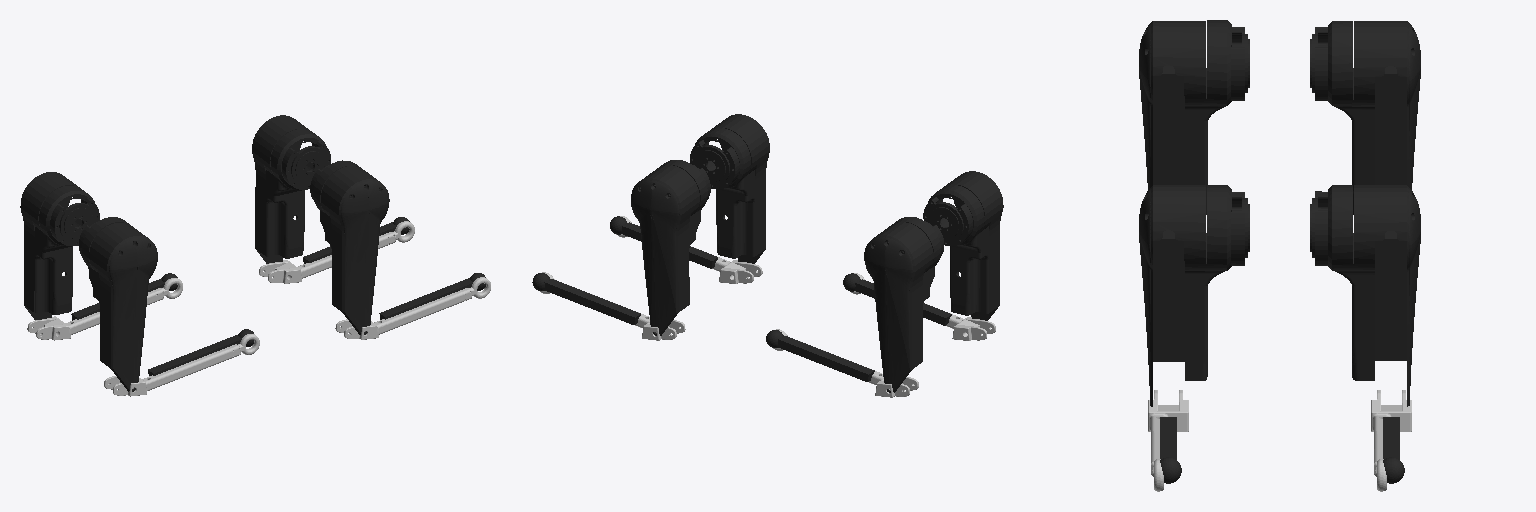
The robot description file, URDF, robot "robot":
<?xml version="1.0" ?>
<robot name="robot">
  <material name="black">
    <color rgba="0.0 0.0 0.0 1.0"/>
  </material>
  <material name="blue">
    <color rgba="0.0 0.0 0.8 1.0"/>
  </material>
  <material name="green">
    <color rgba="0.0 0.8 0.0 1.0"/>
  </material>
  <material name="grey">
    <color rgba="0.2 0.2 0.2 1.0"/>
  </material>
  <material name="silver">
    <color rgba="0.9137254901960784 0.9137254901960784 0.8470588235294118 1.0"/>
  </material>
  <material name="orange">
    <color rgba="1.0 0.4235294117647059 0.0392156862745098 1.0"/>
  </material>
  <material name="brown">
    <color rgba="0.8705882352941177 0.8117647058823529 0.7647058823529411 1.0"/>
  </material>
  <material name="red">
    <color rgba="0.8 0.0 0.0 1.0"/>
  </material>
  <material name="white">
    <color rgba="1.0 1.0 1.0 1.0"/>
  </material>
  <link name="base">
    <visual>
      <origin rpy="0 0 0" xyz="0 0 0"/>
      <geometry>
        <box size="0.001 0.001 0.001"/>
      </geometry>
    </visual>
  </link>
  <joint name="floating_base" type="fixed">
    <origin rpy="0 0 0" xyz="0 0 0"/>
    <parent link="base"/>
    <child link="trunk"/>
  </joint>
  <link name="trunk">
    <visual>
      <origin rpy="0 0 0" xyz="0 0 0"/>
      <geometry>
        <mesh filename="../meshes/trunk.dae" scale="1 1 1"/>
      </geometry>
      <material name="grey"/>
    </visual>
    <collision>
      <origin rpy="0 0 0" xyz="0 0 0"/>
      <geometry>
        <box size="0.647 0.15 0.112"/>
      </geometry>
    </collision>
    <inertial>
      <origin rpy="0 0 0" xyz="0.008465 0.004045 -0.000763"/>
      <mass value="11.041"/>
      <inertia ixx="0.050874" ixy="-0.000451628" ixz="0.000487603" iyy="0.64036" iyz="4.8356e-05" izz="0.65655"/>
    </inertial>
  </link>
  <joint name="FR_hip_joint" type="revolute">
    <origin rpy="0 0 0" xyz="0.2407 -0.051 0"/>
    <parent link="trunk"/>
    <child link="FR_hip"/>
    <axis xyz="1 0 0"/>
    <dynamics damping="0.05" friction="0.01"/>
    <limit effort="35.278" lower="-1.2217304763960306" upper="1.2217304763960306" velocity="20"/>
  </joint>
  <link name="FR_hip">
    <visual>
      <origin rpy="3.141592653589793 0 0" xyz="0 0 0"/>
      <geometry>
        <mesh filename="../meshes/hip.dae" scale="1 1 1"/>
      </geometry>
      <material name="grey"/>
    </visual>
    <collision>
      <origin rpy="1.5707963267948966 0 0" xyz="0 0 0"/>
      <geometry>
        <cylinder length="0.0418" radius="0.046"/>
      </geometry>
    </collision>
    <inertial>
      <origin rpy="0 0 0" xyz="-0.022191 -0.015144 -1.5e-05"/>
      <mass value="1.993"/>
      <inertia ixx="0.002903894" ixy="7.185e-05" ixz="-1.262e-06" iyy="0.004907517" iyz="1.75e-06" izz="0.005586944"/>
    </inertial>
  </link>
  <joint name="FR_thigh_joint" type="revolute">
    <origin rpy="0 0 0" xyz="0 -0.0868 0"/>
    <parent link="FR_hip"/>
    <child link="FR_thigh"/>
    <axis xyz="0 1 0"/>
    <dynamics damping="0.05" friction="0.01"/>
    <limit effort="35.278" lower="-1.0471975511965976" upper="4.1887902047863905" velocity="20"/>
  </joint>
  <link name="FR_thigh">
    <visual>
      <origin rpy="0 0 0" xyz="0 0 0"/>
      <geometry>
        <mesh filename="../meshes/thigh.dae" scale="1 1 1"/>
      </geometry>
      <material name="grey"/>
    </visual>
    <collision>
      <origin rpy="0 1.6707963267948966 0" xyz="-0.015 0 -0.125"/>
      <geometry>
        <box size="0.25 0.0374 0.043"/>
      </geometry>
    </collision>
    <collision>
      <origin rpy="1.5707963267948966 0 0" xyz="0 -0.0 0"/>
      <geometry>
        <cylinder length="0.03" radius="0.044"/>
      </geometry>
    </collision>
    <inertial>
      <origin rpy="0 0 0" xyz="-0.005607 0.003877 -0.048199"/>
      <mass value="0.639"/>
      <inertia ixx="0.005666803" ixy="-3.597e-06" ixz="0.000491446" iyy="0.005847229" iyz="-1.0086e-05" izz="0.000369811"/>
    </inertial>
  </link>
  <joint name="FR_calf_joint" type="revolute">
    <origin rpy="0 0 0" xyz="0 0 -0.25"/>
    <parent link="FR_thigh"/>
    <child link="FR_calf"/>
    <axis xyz="0 1 0"/>
    <dynamics damping="0.05" friction="0.01"/>
    <limit effort="44.4" lower="-2.775073510670984" upper="-0.6457718232379019" velocity="15.89"/>
  </joint>
  <link name="FR_calf">
    <visual>
      <origin rpy="0 0 0" xyz="0 0 0"/>
      <geometry>
        <mesh filename="../meshes/calf.dae" scale="1 1 1"/>
      </geometry>
    </visual>
    <collision>
      <origin rpy="0 1.5707963267948966 0" xyz="0.008 0 -0.125"/>
      <geometry>
        <box size="0.25 0.04 0.03"/>
      </geometry>
    </collision>
    <collision>
      <origin rpy="0 0 0" xyz="0 0 -0.25"/>
      <geometry>
        <sphere radius="0.02"/>
      </geometry>
    </collision>
    <inertial>
      <origin rpy="0 0 0" xyz="0.002781 6.3e-05 -0.142518"/>
      <mass value="0.207"/>
      <inertia ixx="0.006341369" ixy="-3e-09" ixz="-8.7951e-05" iyy="0.006355157" iyz="-1.336e-06" izz="3.9188e-05"/>
    </inertial>
  </link>
  <joint name="FR_foot_pris" type="prismatic">
    <origin rpy="0 0 0" xyz="0 0 -0.25"/>
    <parent link="FR_calf"/>
    <child link="FR_foot"/>
    <axis xyz="0 0 -1"/>
    <dynamics damping="0" friction="0"/>
    <limit effort="50" velocity="40" lower="0.0" upper="0.02"/>
  </joint>
  <link name="FR_foot">
    <visual>
      <origin rpy="0 1.57079632679 0" xyz="0 0 0.1"/>
      <geometry>
        <box size="0.2 0.0208 0.016"/>
      </geometry>
      <material name="grey"/>
    </visual>
    <visual>
      <origin rpy="0 0 0" xyz="0 0 0"/>
      <geometry>
        <sphere radius="0.0165"/>
      </geometry>
      <material name="grey"/>
    </visual>
    <collision>
      <origin rpy="0 0 0" xyz="0 0 0"/>
      <geometry>
        <sphere radius="0.0165"/>
      </geometry>
    </collision>
    <inertial>
      <mass value="0.06"/>
      <inertia ixx="1.6854e-05" ixy="0.0" ixz="0.0" iyy="1.6854e-05" iyz="0.0" izz="1.6854e-05"/>
    </inertial>
  </link>
  <joint name="FL_hip_joint" type="revolute">
    <origin rpy="0 0 0" xyz="0.2407 0.051 0"/>
    <parent link="trunk"/>
    <child link="FL_hip"/>
    <axis xyz="1 0 0"/>
    <dynamics damping="0.05" friction="0.01"/>
    <limit effort="35.278" lower="-1.2217304763960306" upper="1.2217304763960306" velocity="20"/>
  </joint>
  <link name="FL_hip">
    <visual>
      <origin rpy="0 0 0" xyz="0 0 0"/>
      <geometry>
        <mesh filename="../meshes/hip.dae" scale="1 1 1"/>
      </geometry>
      <material name="grey"/>
    </visual>
    <collision>
      <origin rpy="1.5707963267948966 0 0" xyz="0 0 0"/>
      <geometry>
        <cylinder length="0.0418" radius="0.046"/>
      </geometry>
    </collision>
    <inertial>
      <origin rpy="0 0 0" xyz="-0.022191 0.015144 -1.5e-05"/>
      <mass value="1.993"/>
      <inertia ixx="0.002903894" ixy="-7.185e-05" ixz="-1.262e-06" iyy="0.004907517" iyz="-1.75e-06" izz="0.005586944"/>
    </inertial>
  </link>
  <joint name="FL_thigh_joint" type="revolute">
    <origin rpy="0 0 0" xyz="0 0.0868 0"/>
    <parent link="FL_hip"/>
    <child link="FL_thigh"/>
    <axis xyz="0 1 0"/>
    <dynamics damping="0.05" friction="0.01"/>
    <limit effort="35.278" lower="-1.0471975511965976" upper="4.1887902047863905" velocity="20"/>
  </joint>
  <link name="FL_thigh">
    <visual>
      <origin rpy="0 0 0" xyz="0 0 0"/>
      <geometry>
        <mesh filename="../meshes/thigh_mirror.dae" scale="1 1 1"/>
      </geometry>
      <material name="grey"/>
    </visual>
    <collision>
      <origin rpy="0 1.6707963267948966 0" xyz="-0.015 0 -0.125"/>
      <geometry>
        <box size="0.25 0.0374 0.043"/>
      </geometry>
    </collision>
    <collision>
      <origin rpy="1.5707963267948966 0 0" xyz="0 0.0 0"/>
      <geometry>
        <cylinder length="0.03" radius="0.044"/>
      </geometry>
    </collision>
    <inertial>
      <origin rpy="0 0 0" xyz="-0.005607 -0.003877 -0.048199"/>
      <mass value="0.639"/>
      <inertia ixx="0.005666803" ixy="3.597e-06" ixz="0.000491446" iyy="0.005847229" iyz="1.0086e-05" izz="0.000369811"/>
    </inertial>
  </link>
  <joint name="FL_calf_joint" type="revolute">
    <origin rpy="0 0 0" xyz="0 0 -0.25"/>
    <parent link="FL_thigh"/>
    <child link="FL_calf"/>
    <axis xyz="0 1 0"/>
    <dynamics damping="0.05" friction="0.01"/>
    <limit effort="44.4" lower="-2.775073510670984" upper="-0.6457718232379019" velocity="15.89"/>
  </joint>
  <link name="FL_calf">
    <visual>
      <origin rpy="0 0 0" xyz="0 0 0"/>
      <geometry>
        <mesh filename="../meshes/calf.dae" scale="1 1 1"/>
      </geometry>
    </visual>
    <collision>
      <origin rpy="0 1.5707963267948966 0" xyz="0.008 0 -0.125"/>
      <geometry>
        <box size="0.25 0.04 0.03"/>
      </geometry>
    </collision>
    <collision>
      <origin rpy="0 0 0" xyz="0 0 -0.25"/>
      <geometry>
        <sphere radius="0.02"/>
      </geometry>
    </collision>
    <inertial>
      <origin rpy="0 0 0" xyz="0.002781 6.3e-05 -0.142518"/>
      <mass value="0.207"/>
      <inertia ixx="0.006341369" ixy="-3e-09" ixz="-8.7951e-05" iyy="0.006355157" iyz="-1.336e-06" izz="3.9188e-05"/>
    </inertial>
  </link>
  <joint name="FL_foot_pris" type="prismatic">
    <origin rpy="0 0 0" xyz="0 0 -0.25"/>
    <parent link="FL_calf"/>
    <child link="FL_foot"/>
    <axis xyz="0 0 -1"/>
    <dynamics damping="0" friction="0"/>
    <limit effort="50" velocity="40" lower="0.0" upper="0.02"/>
  </joint>
  <link name="FL_foot">
    <visual>
      <origin rpy="0 1.57079632679 0" xyz="0 0 0.1"/>
      <geometry>
        <box size="0.2 0.0208 0.016"/>
      </geometry>
      <material name="grey"/>
    </visual>
    <visual>
      <origin rpy="0 0 0" xyz="0 0 0"/>
      <geometry>
        <sphere radius="0.0165"/>
      </geometry>
      <material name="grey"/>
    </visual>
    <collision>
      <origin rpy="0 0 0" xyz="0 0 0"/>
      <geometry>
        <sphere radius="0.0165"/>
      </geometry>
    </collision>
    <inertial>
      <mass value="0.06"/>
      <inertia ixx="1.6854e-05" ixy="0.0" ixz="0.0" iyy="1.6854e-05" iyz="0.0" izz="1.6854e-05"/>
    </inertial>
  </link>
  <joint name="RR_hip_joint" type="revolute">
    <origin rpy="0 0 0" xyz="-0.2407 -0.051 0"/>
    <parent link="trunk"/>
    <child link="RR_hip"/>
    <axis xyz="1 0 0"/>
    <dynamics damping="0.05" friction="0.01"/>
    <limit effort="35.278" lower="-1.2217304763960306" upper="1.2217304763960306" velocity="20"/>
  </joint>
  <link name="RR_hip">
    <visual>
      <origin rpy="3.141592653589793 3.141592653589793 0" xyz="0 0 0"/>
      <geometry>
        <mesh filename="../meshes/hip.dae" scale="1 1 1"/>
      </geometry>
      <material name="grey"/>
    </visual>
    <collision>
      <origin rpy="1.5707963267948966 0 0" xyz="0 0 0"/>
      <geometry>
        <cylinder length="0.0418" radius="0.046"/>
      </geometry>
    </collision>
    <inertial>
      <origin rpy="0 0 0" xyz="0.022191 -0.015144 -1.5e-05"/>
      <mass value="1.993"/>
      <inertia ixx="0.002903894" ixy="-7.185e-05" ixz="1.262e-06" iyy="0.004907517" iyz="1.75e-06" izz="0.005586944"/>
    </inertial>
  </link>
  <joint name="RR_thigh_joint" type="revolute">
    <origin rpy="0 0 0" xyz="0 -0.0868 0"/>
    <parent link="RR_hip"/>
    <child link="RR_thigh"/>
    <axis xyz="0 1 0"/>
    <dynamics damping="0.05" friction="0.01"/>
    <limit effort="35.278" lower="-1.0471975511965976" upper="4.1887902047863905" velocity="20"/>
  </joint>
  <link name="RR_thigh">
    <visual>
      <origin rpy="0 0 0" xyz="0 0 0"/>
      <geometry>
        <mesh filename="../meshes/thigh.dae" scale="1 1 1"/>
      </geometry>
      <material name="grey"/>
    </visual>
    <collision>
      <origin rpy="0 1.6707963267948966 0" xyz="-0.015 0 -0.125"/>
      <geometry>
        <box size="0.25 0.0374 0.043"/>
      </geometry>
    </collision>
    <collision>
      <origin rpy="1.5707963267948966 0 0" xyz="0 -0.0 0"/>
      <geometry>
        <cylinder length="0.03" radius="0.044"/>
      </geometry>
    </collision>
    <inertial>
      <origin rpy="0 0 0" xyz="-0.005607 0.003877 -0.048199"/>
      <mass value="0.639"/>
      <inertia ixx="0.005666803" ixy="-3.597e-06" ixz="0.000491446" iyy="0.005847229" iyz="-1.0086e-05" izz="0.000369811"/>
    </inertial>
  </link>
  <joint name="RR_calf_joint" type="revolute">
    <origin rpy="0 0 0" xyz="0 0 -0.25"/>
    <parent link="RR_thigh"/>
    <child link="RR_calf"/>
    <axis xyz="0 1 0"/>
    <dynamics damping="0.05" friction="0.01"/>
    <limit effort="44.4" lower="-2.775073510670984" upper="-0.6457718232379019" velocity="15.89"/>
  </joint>
  <link name="RR_calf">
    <visual>
      <origin rpy="0 0 0" xyz="0 0 0"/>
      <geometry>
        <mesh filename="../meshes/calf.dae" scale="1 1 1"/>
      </geometry>
    </visual>
    <collision>
      <origin rpy="0 1.5707963267948966 0" xyz="0.008 0 -0.125"/>
      <geometry>
        <box size="0.25 0.04 0.03"/>
      </geometry>
    </collision>
    <collision>
      <origin rpy="0 0 0" xyz="0 0 -0.25"/>
      <geometry>
        <sphere radius="0.02"/>
      </geometry>
    </collision>
    <inertial>
      <origin rpy="0 0 0" xyz="0.002781 6.3e-05 -0.142518"/>
      <mass value="0.207"/>
      <inertia ixx="0.006341369" ixy="-3e-09" ixz="-8.7951e-05" iyy="0.006355157" iyz="-1.336e-06" izz="3.9188e-05"/>
    </inertial>
  </link>
  <joint name="RR_foot_pris" type="prismatic">
    <origin rpy="0 0 0" xyz="0 0 -0.25"/>
    <parent link="RR_calf"/>
    <child link="RR_foot"/>
    <axis xyz="0 0 -1"/>
    <dynamics damping="0" friction="0"/>
    <limit effort="50" velocity="40" lower="0.0" upper="0.02"/>
  </joint>
  <link name="RR_foot">
    <visual>
      <origin rpy="0 1.57079632679 0" xyz="0 0 0.1"/>
      <geometry>
        <box size="0.2 0.0208 0.016"/>
      </geometry>
      <material name="grey"/>
    </visual>
    <visual>
      <origin rpy="0 0 0" xyz="0 0 0"/>
      <geometry>
        <sphere radius="0.0165"/>
      </geometry>
      <material name="grey"/>
    </visual>
    <collision>
      <origin rpy="0 0 0" xyz="0 0 0"/>
      <geometry>
        <sphere radius="0.0165"/>
      </geometry>
    </collision>
    <inertial>
      <mass value="0.06"/>
      <inertia ixx="1.6854e-05" ixy="0.0" ixz="0.0" iyy="1.6854e-05" iyz="0.0" izz="1.6854e-05"/>
    </inertial>
  </link>
  <joint name="RL_hip_joint" type="revolute">
    <origin rpy="0 0 0" xyz="-0.2407 0.051 0"/>
    <parent link="trunk"/>
    <child link="RL_hip"/>
    <axis xyz="1 0 0"/>
    <dynamics damping="0.05" friction="0.01"/>
    <limit effort="35.278" lower="-1.2217304763960306" upper="1.2217304763960306" velocity="20"/>
  </joint>
  <link name="RL_hip">
    <visual>
      <origin rpy="0 3.141592653589793 0" xyz="0 0 0"/>
      <geometry>
        <mesh filename="../meshes/hip.dae" scale="1 1 1"/>
      </geometry>
      <material name="grey"/>
    </visual>
    <collision>
      <origin rpy="1.5707963267948966 0 0" xyz="0 0 0"/>
      <geometry>
        <cylinder length="0.0418" radius="0.046"/>
      </geometry>
    </collision>
    <inertial>
      <origin rpy="0 0 0" xyz="0.022191 0.015144 -1.5e-05"/>
      <mass value="1.993"/>
      <inertia ixx="0.002903894" ixy="7.185e-05" ixz="1.262e-06" iyy="0.004907517" iyz="-1.75e-06" izz="0.005586944"/>
    </inertial>
  </link>
  <joint name="RL_thigh_joint" type="revolute">
    <origin rpy="0 0 0" xyz="0 0.0868 0"/>
    <parent link="RL_hip"/>
    <child link="RL_thigh"/>
    <axis xyz="0 1 0"/>
    <dynamics damping="0.05" friction="0.01"/>
    <limit effort="35.278" lower="-1.0471975511965976" upper="4.1887902047863905" velocity="20"/>
  </joint>
  <link name="RL_thigh">
    <visual>
      <origin rpy="0 0 0" xyz="0 0 0"/>
      <geometry>
        <mesh filename="../meshes/thigh_mirror.dae" scale="1 1 1"/>
      </geometry>
      <material name="grey"/>
    </visual>
    <collision>
      <origin rpy="0 1.6707963267948966 0" xyz="-0.015 0 -0.125"/>
      <geometry>
        <box size="0.25 0.0374 0.043"/>
      </geometry>
    </collision>
    <collision>
      <origin rpy="1.5707963267948966 0 0" xyz="0 0.0 0"/>
      <geometry>
        <cylinder length="0.03" radius="0.044"/>
      </geometry>
    </collision>
    <inertial>
      <origin rpy="0 0 0" xyz="-0.005607 -0.003877 -0.048199"/>
      <mass value="0.639"/>
      <inertia ixx="0.005666803" ixy="3.597e-06" ixz="0.000491446" iyy="0.005847229" iyz="1.0086e-05" izz="0.000369811"/>
    </inertial>
  </link>
  <joint name="RL_calf_joint" type="revolute">
    <origin rpy="0 0 0" xyz="0 0 -0.25"/>
    <parent link="RL_thigh"/>
    <child link="RL_calf"/>
    <axis xyz="0 1 0"/>
    <dynamics damping="0.05" friction="0.01"/>
    <limit effort="44.4" lower="-2.775073510670984" upper="-0.6457718232379019" velocity="15.89"/>
  </joint>
  <link name="RL_calf">
    <visual>
      <origin rpy="0 0 0" xyz="0 0 0"/>
      <geometry>
        <mesh filename="../meshes/calf.dae" scale="1 1 1"/>
      </geometry>
    </visual>
    <collision>
      <origin rpy="0 1.5707963267948966 0" xyz="0.008 0 -0.125"/>
      <geometry>
        <box size="0.25 0.04 0.03"/>
      </geometry>
    </collision>
    <collision>
      <origin rpy="0 0 0" xyz="0 0 -0.25"/>
      <geometry>
        <sphere radius="0.02"/>
      </geometry>
    </collision>
    <inertial>
      <origin rpy="0 0 0" xyz="0.002781 6.3e-05 -0.142518"/>
      <mass value="0.207"/>
      <inertia ixx="0.006341369" ixy="-3e-09" ixz="-8.7951e-05" iyy="0.006355157" iyz="-1.336e-06" izz="3.9188e-05"/>
    </inertial>
  </link>
  <joint name="RL_foot_pris" type="prismatic">
    <origin rpy="0 0 0" xyz="0 0 -0.25"/>
    <parent link="RL_calf"/>
    <child link="RL_foot"/>
    <axis xyz="0 0 -1"/>
    <dynamics damping="0" friction="0"/>
    <limit effort="50" velocity="40" lower="0.0" upper="0.02"/>
  </joint>
  <link name="RL_foot">
    <visual>
      <origin rpy="0 1.57079632679 0" xyz="0 0 0.1"/>
      <geometry>
        <box size="0.2 0.0208 0.016"/>
      </geometry>
      <material name="grey"/>
    </visual>
    <visual>
      <origin rpy="0 0 0" xyz="0 0 0"/>
      <geometry>
        <sphere radius="0.0165"/>
      </geometry>
      <material name="grey"/>
    </visual>
    <collision>
      <origin rpy="0 0 0" xyz="0 0 0"/>
      <geometry>
        <sphere radius="0.0165"/>
      </geometry>
    </collision>
    <inertial>
      <mass value="0.06"/>
      <inertia ixx="1.6854e-05" ixy="0.0" ixz="0.0" iyy="1.6854e-05" iyz="0.0" izz="1.6854e-05"/>
    </inertial>
  </link>
</robot>

--- What the picture shows (computed from the rendered views, not written in the file) ---
3 views of the same robot in one strip: view 1: azimuth 30°, elevation 25°; view 2: azimuth 150°, elevation 25°; view 3: azimuth 270°, elevation 25° (orthographic).
Model robot with 18 links and 17 joints (12 revolute, 4 prismatic, 1 fixed), rooted at base, posed all joints at 0 but 4 set to mid-range because 0 is outside their limits (FR_calf_joint = -1.71, FL_calf_joint = -1.71, RR_calf_joint = -1.71, RL_calf_joint = -1.71).
Links seen in each view (by area): view 1: RR_thigh, FR_thigh, FL_thigh, RL_thigh, RR_calf, FR_calf, FL_calf, RL_calf, FR_foot, RR_foot; view 2: RL_thigh, FL_thigh, RR_thigh, FR_thigh, FL_foot, RL_foot, FR_calf, RR_calf, FR_foot, RR_foot, RL_calf, FL_calf; view 3: FR_thigh, FL_thigh, RR_thigh, RL_thigh, FL_calf, FR_calf, FR_foot, FL_foot.
Boxes of the visible links, x1,y1,x2,y2 form: RR_thigh: [79, 217, 157, 391]; FR_thigh: [310, 160, 389, 334]; FL_thigh: [252, 115, 330, 263]; RL_thigh: [20, 172, 99, 319]; RR_calf: [104, 334, 259, 396]; FR_calf: [335, 277, 490, 339]; FL_calf: [259, 221, 414, 283]; RL_calf: [27, 278, 182, 340]; FR_foot: [379, 273, 485, 319]; RR_foot: [148, 329, 253, 375]; RL_thigh: [864, 217, 943, 392]; FL_thigh: [631, 160, 710, 335]; RR_thigh: [923, 171, 1003, 320]; FR_thigh: [690, 114, 769, 263]; FL_foot: [532, 273, 640, 324]; RL_foot: [766, 330, 874, 381]; FR_calf: [616, 216, 762, 283]; RR_calf: [851, 273, 995, 340]; FR_foot: [610, 216, 717, 268]; RR_foot: [843, 273, 951, 325]; RL_calf: [773, 329, 918, 397]; FL_calf: [540, 272, 685, 340]; FR_thigh: [1139, 185, 1249, 406]; FL_thigh: [1310, 185, 1420, 406]; RR_thigh: [1139, 20, 1249, 214]; RL_thigh: [1310, 21, 1420, 214]; FL_calf: [1371, 390, 1411, 491]; FR_calf: [1148, 390, 1188, 491]; FR_foot: [1160, 417, 1181, 483]; FL_foot: [1383, 417, 1404, 483].
Bounding box of the posed robot: 0.8016 × 0.3496 × 0.3188 m (x, y, z).
Meshes: 5 distinct files referenced, 8 mesh visuals loaded (3 Collada DAE); not drawn: 5 (reference not matched to a file when rendering).